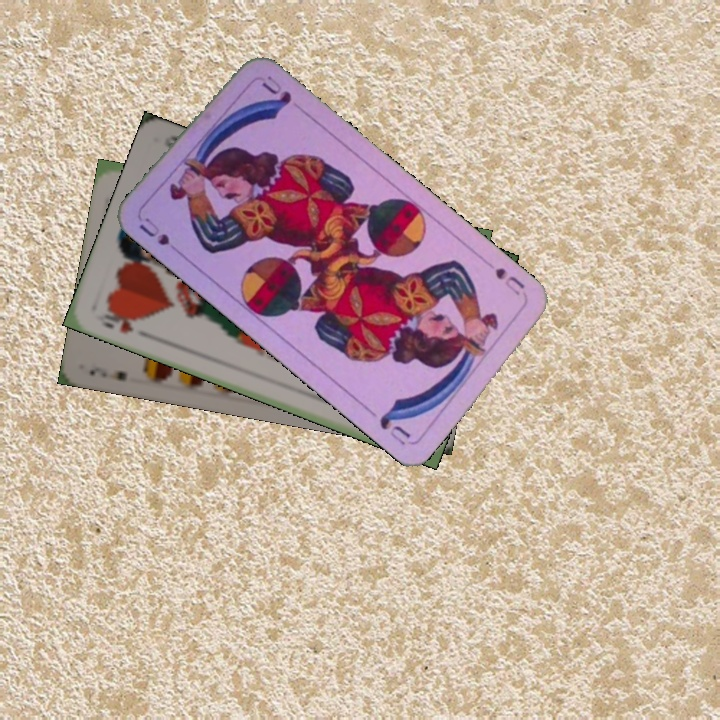E7: (84, 363, 130, 383)
HO: (96, 304, 139, 336)
SU: (135, 213, 186, 259), (491, 263, 528, 299)
